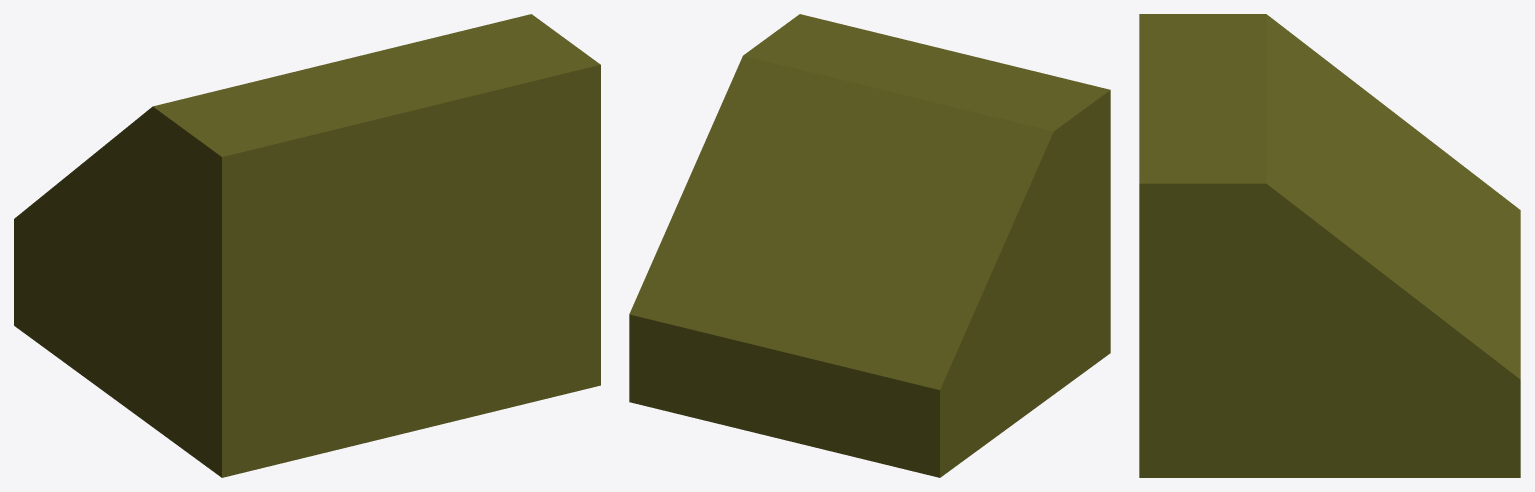
File: blockout_Small_Stairs.fbx
3 renders of one model, left to right at view 1: azimuth 30°, elevation 25°; view 2: azimuth 150°, elevation 25°; view 3: azimuth 270°, elevation 25°, orthographic. The views are drawn at different scales.
Visible parts, largest first — view 1: blockout_Small_Stairs; view 2: blockout_Small_Stairs; view 3: blockout_Small_Stairs.
Part boxes in pixels (<box>): blockout_Small_Stairs: <box>14,14,600,477</box>; blockout_Small_Stairs: <box>629,14,1110,477</box>; blockout_Small_Stairs: <box>1139,14,1520,477</box>.
Bounding box in the file's own units: 54.2 × 43.87 × 51.53.
Materials: 1 (1 with a texture image).
